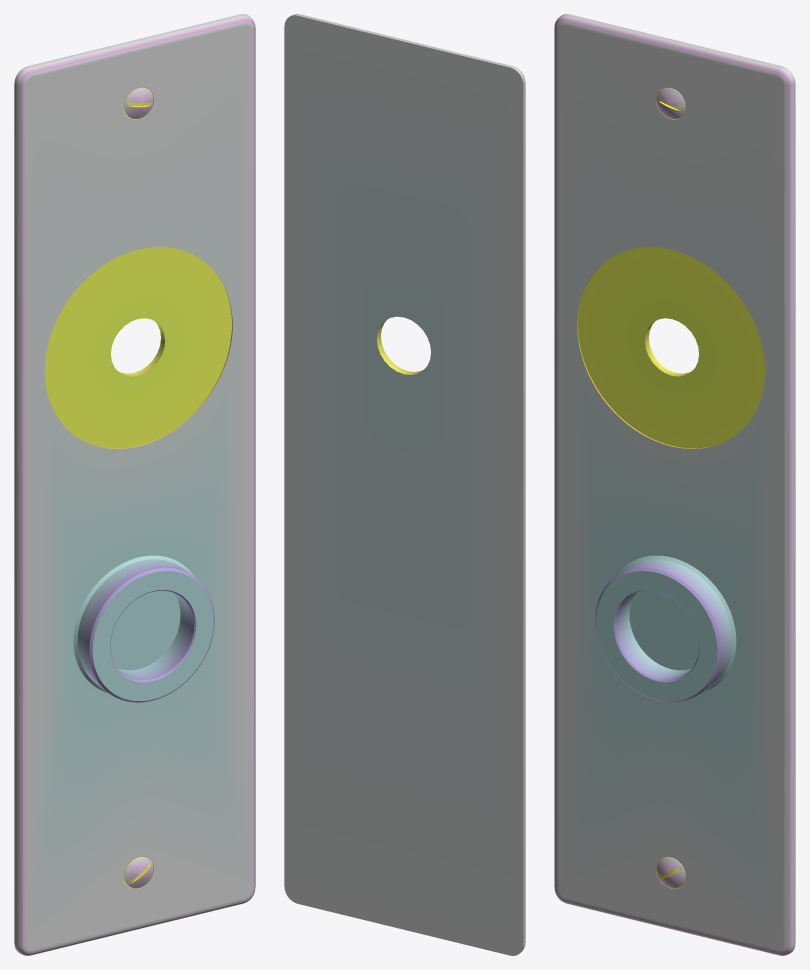
File: Kit_Lock_Escutcheon.fbx
The picture shows the model from 3 angles, left to right: view 1: azimuth 30°, elevation 25°; view 2: azimuth 150°, elevation 25°; view 3: azimuth 330°, elevation 25°; orthographic projection.
Visible parts, largest first — view 1: Kit_Lock_Escutcheon_LOD0; view 2: Kit_Lock_Escutcheon_LOD0; view 3: Kit_Lock_Escutcheon_LOD0.
Boxes of the visible parts, x1,y1,x2,y2 form: Kit_Lock_Escutcheon_LOD0: [14, 14, 255, 955]; Kit_Lock_Escutcheon_LOD0: [284, 14, 525, 955]; Kit_Lock_Escutcheon_LOD0: [554, 14, 795, 955].
Size of what is drawn, in the model's own units: 0.0572 by 0.2032 by 0.008.
